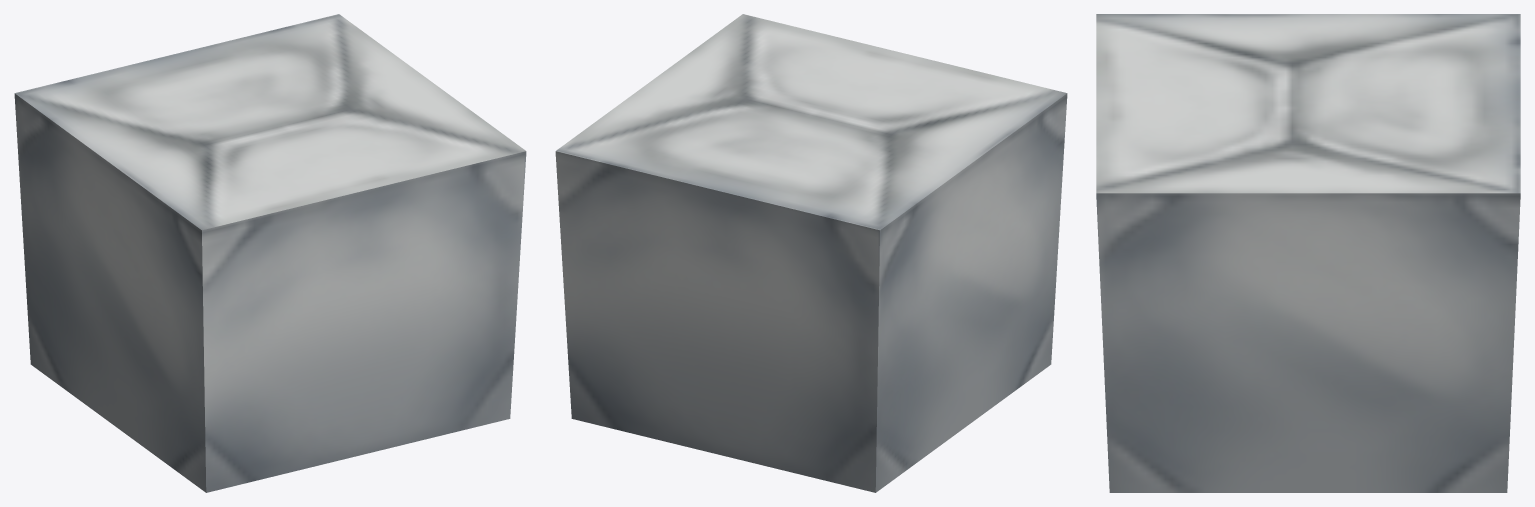
The model's file is a_SWAbox01.glb.
3 renders of one model, left to right at view 1: azimuth 30°, elevation 25°; view 2: azimuth 150°, elevation 25°; view 3: azimuth 270°, elevation 25°, orthographic. The views are drawn at different scales.
Parts seen in each view (by area): view 1: a_SWAbox01; view 2: a_SWAbox01; view 3: a_SWAbox01.
Part boxes in pixels (<box>): a_SWAbox01: <box>14,14,526,492</box>; a_SWAbox01: <box>555,14,1067,492</box>; a_SWAbox01: <box>1096,14,1520,492</box>.
Bounding box in the file's own units: 0.9799 × 0.7774 × 0.9799.
Materials: 1 (1 with a texture image).
